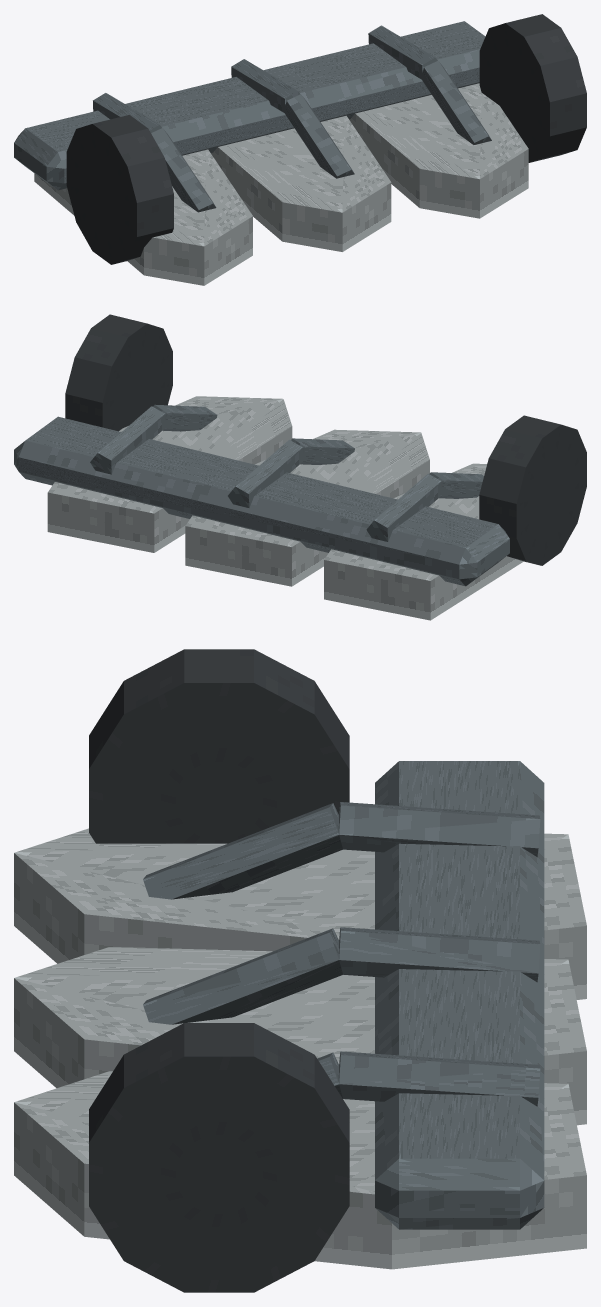
Rendered from v_plow_item.glb.
3 views of the same model, one above another, from view 1: azimuth 30°, elevation 25°; view 2: azimuth 150°, elevation 25°; view 3: azimuth 270°, elevation 25° (orthographic). The views are drawn at different scales.
Visible parts, largest first — view 1: block_curved blade (×3), block_depth wheel (×2), block_plow crossbar, block_plow strut 1 (×3), block_plow strut 0 (×3); view 2: block_curved blade (×3), block_plow crossbar, block_depth wheel (×2), block_plow strut 0 (×3), block_plow strut 1 (×3); view 3: block_depth wheel (×2), block_curved blade (×3), block_plow crossbar, block_plow strut 0 (×3), block_plow strut 1 (×2).
Boxes of the visible parts, x1=… form: block_curved blade (×3): x1=34, y1=83, x2=528, y2=285; block_depth wheel (×2): x1=66, y1=14, x2=586, y2=264; block_plow crossbar: x1=14, y1=21, x2=485, y2=190; block_plow strut 1 (×3): x1=151, y1=61, x2=491, y2=212; block_plow strut 0 (×3): x1=93, y1=25, x2=437, y2=132; block_curved blade (×3): x1=47, y1=396, x2=523, y2=620; block_plow crossbar: x1=14, y1=416, x2=509, y2=586; block_depth wheel (×2): x1=65, y1=314, x2=586, y2=565; block_plow strut 0 (×3): x1=90, y1=406, x2=441, y2=541; block_plow strut 1 (×3): x1=153, y1=404, x2=483, y2=498; block_depth wheel (×2): x1=89, y1=649, x2=349, y2=1292; block_curved blade (×3): x1=14, y1=828, x2=586, y2=1269; block_plow crossbar: x1=375, y1=761, x2=544, y2=1229; block_plow strut 0 (×3): x1=339, y1=802, x2=540, y2=1106; block_plow strut 1 (×2): x1=143, y1=803, x2=342, y2=1024.
Size of the model in its own units: 0.3697 by 0.0974 by 0.2141.
1 material, 1 textured.
